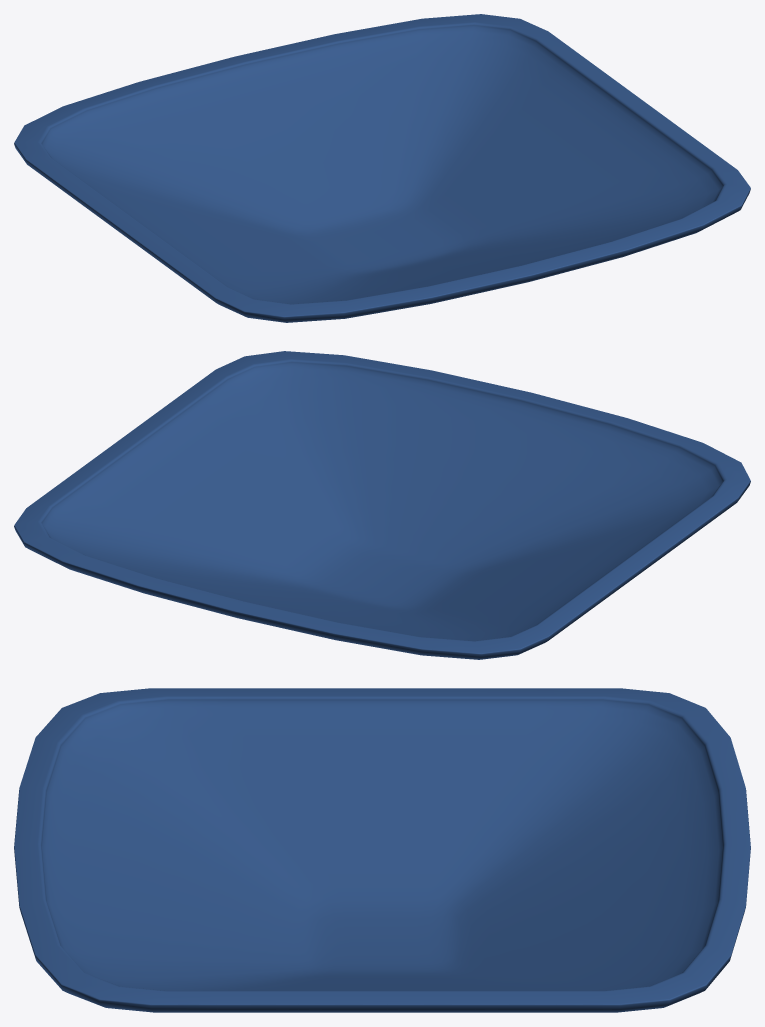
Rendered from NewBowl.fbx.
3 renders of one model, top to bottom at view 1: azimuth 30°, elevation 25°; view 2: azimuth 150°, elevation 25°; view 3: azimuth 270°, elevation 25°, orthographic. The views are drawn at different scales.
Visible parts, largest first — view 1: pCube35; view 2: pCube35; view 3: pCube35.
Boxes of the visible parts, x1=… form: pCube35: x1=14, y1=14, x2=750, y2=322; pCube35: x1=14, y1=351, x2=750, y2=659; pCube35: x1=14, y1=688, x2=750, y2=1012.
Size of the model in its own units: 65.34 by 10.39 by 64.45.
Materials: 1 (1 with a texture image).
